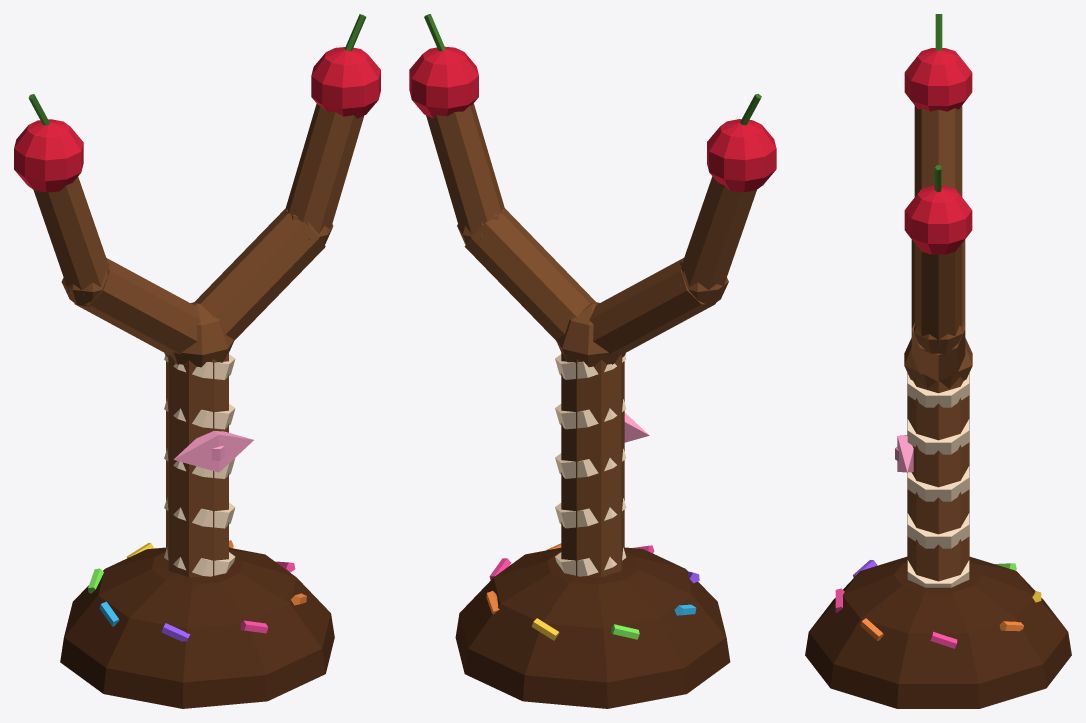
The model's file is slingshot_4.fbx.
3 views of the same model, side by side, from view 1: azimuth 30°, elevation 25°; view 2: azimuth 150°, elevation 25°; view 3: azimuth 270°, elevation 25° (orthographic). The views are drawn at different scales.
Parts seen in each view (by area): view 1: Frame, Base, Tips, Stripes, Bow, Sprinkles, Stems; view 2: Frame, Base, Tips, Stripes, Sprinkles, Stems; view 3: Base, Frame, Tips, Stripes, Sprinkles, Bow, Stems.
Part boxes in pixels (box(x1,y1,x2,y2)): Frame: box(33, 104, 363, 577); Base: box(60, 547, 334, 708); Tips: box(14, 47, 380, 192); Stripes: box(164, 354, 235, 576); Bow: box(173, 431, 253, 472); Sprinkles: box(88, 540, 306, 641); Stems: box(28, 14, 366, 125); Frame: box(426, 103, 756, 577); Base: box(455, 547, 730, 708); Tips: box(409, 46, 776, 192); Stripes: box(555, 354, 626, 576); Sprinkles: box(486, 543, 699, 640); Stems: box(424, 14, 761, 125); Base: box(805, 556, 1071, 708); Frame: box(904, 105, 972, 581); Tips: box(904, 48, 972, 254); Stripes: box(907, 374, 969, 587); Sprinkles: box(835, 560, 1041, 648); Bow: box(895, 435, 913, 472); Stems: box(934, 14, 942, 192).
Size of the model in its own units: 5.27 by 8.42 by 3.6.
